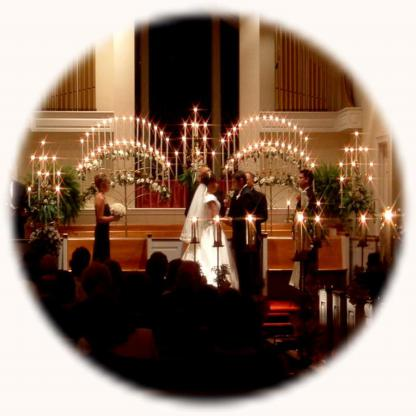face: (244, 174, 253, 189), (211, 177, 219, 193), (299, 174, 306, 188), (233, 178, 241, 190), (106, 179, 112, 192), (25, 209, 28, 216)
